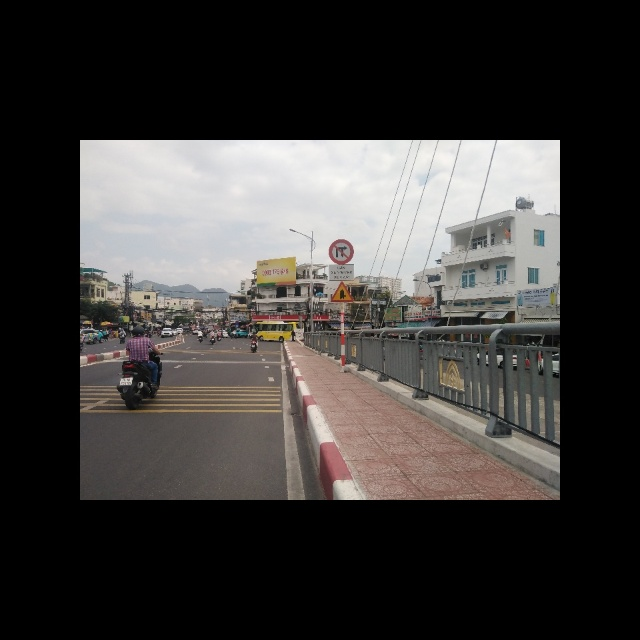Cấm quay đầu và rẽ phải: (328, 239, 354, 265)
Giao nhau với đường không ưu tiên: (330, 281, 353, 302)
